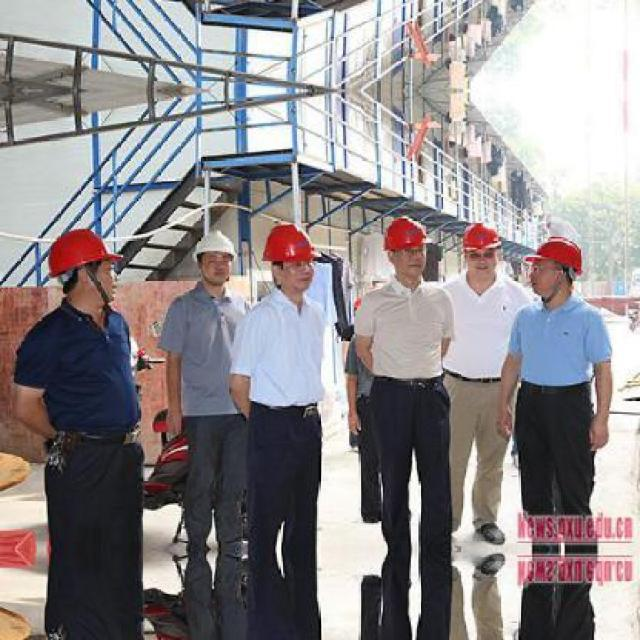hat: (44, 226, 124, 285), (523, 233, 583, 276), (262, 223, 316, 266), (378, 212, 428, 255), (192, 228, 235, 268), (463, 222, 503, 252)
